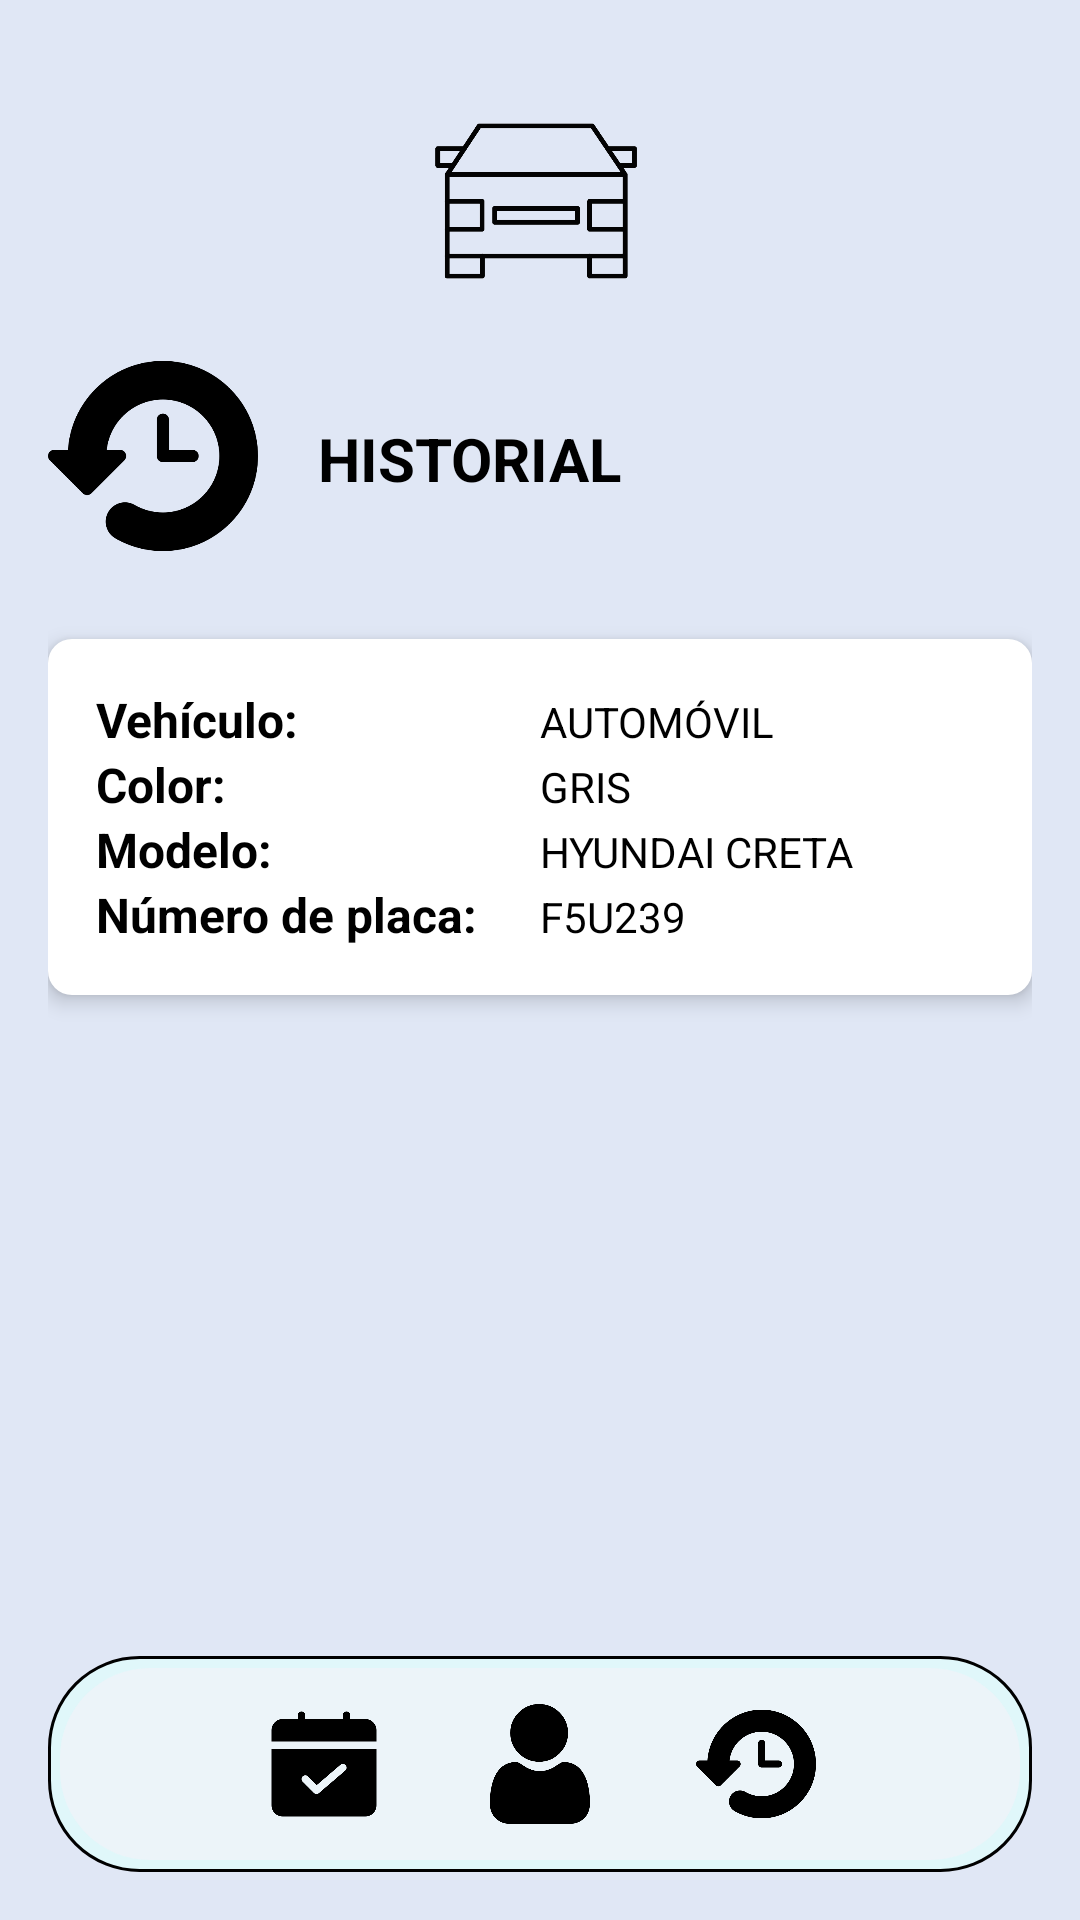

Locate icon controls on the screen. Image size 1080×1920, boxes as [x1,y1,x2,y2].
calendar: [271,1711,377,1817]
car: [435,123,637,279]
record: [48,361,258,551], [696,1710,816,1818]
user: [490,1704,590,1824]
